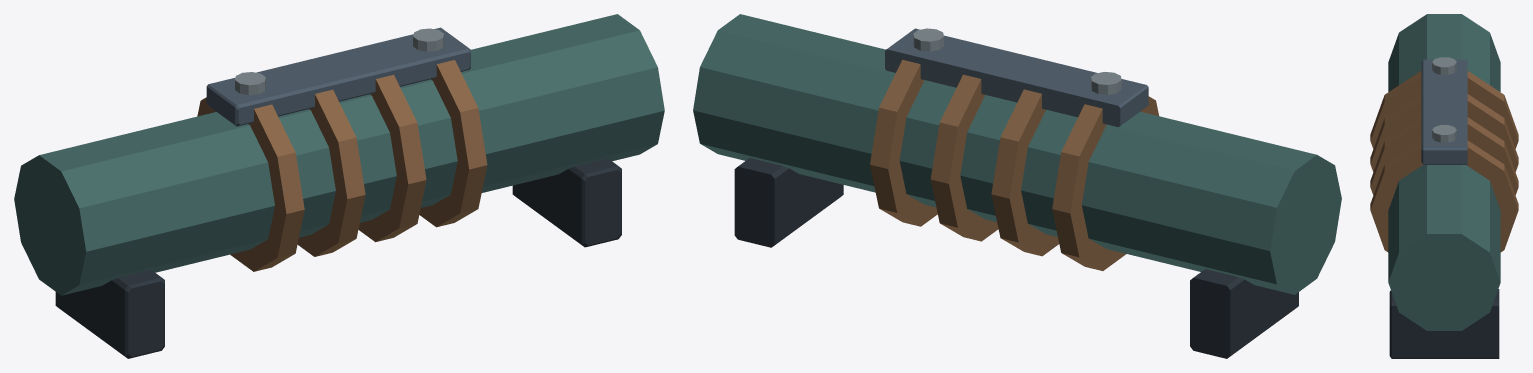
Rendered from R-19_pipe_repair.glb.
The picture shows the model from 3 angles, left to right: view 1: azimuth 30°, elevation 25°; view 2: azimuth 150°, elevation 25°; view 3: azimuth 270°, elevation 25°; orthographic projection. The views are drawn at different scales.
Visible parts, largest first — view 1: R-19_pipe_repair; view 2: R-19_pipe_repair; view 3: R-19_pipe_repair.
Part boxes in pixels (x1,y1,x2,y2): R-19_pipe_repair: (14,14,664,358); R-19_pipe_repair: (693,14,1341,358); R-19_pipe_repair: (1370,14,1518,358).
Bounding box in the file's own units: 0.76 × 0.273 × 0.216.
